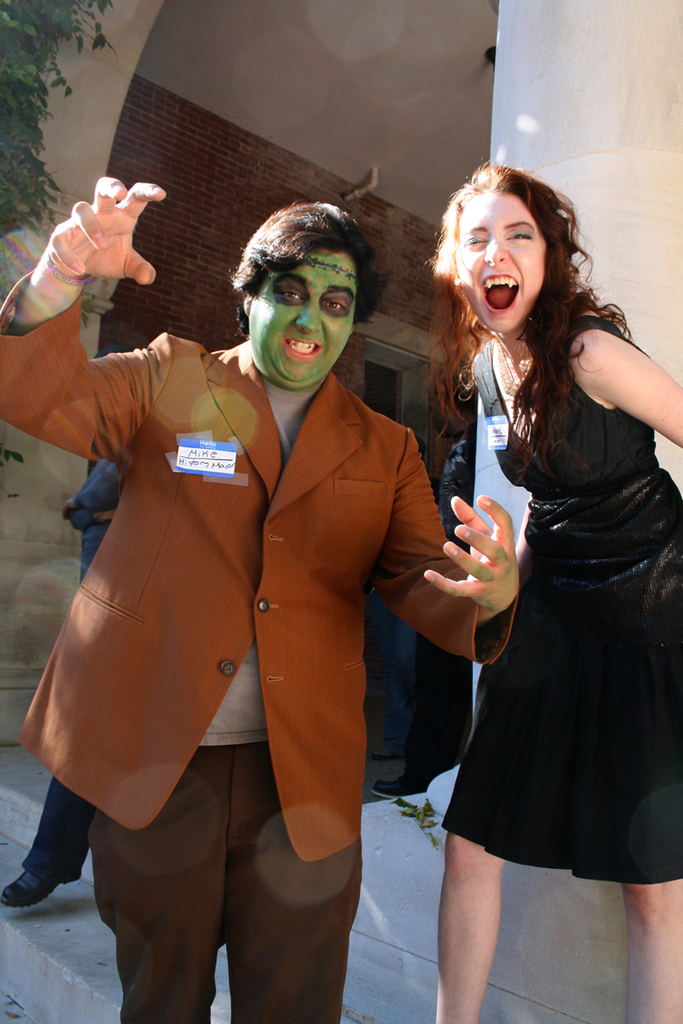Footwear: (0, 865, 73, 914)
